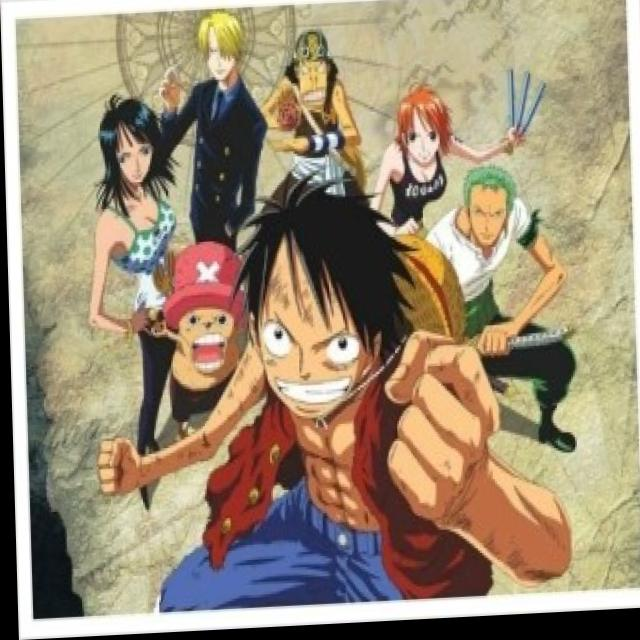Chyopa: (141, 224, 258, 445)
Luffy: (240, 180, 419, 436)
Nami: (387, 84, 461, 182)
NicoRobin: (86, 82, 178, 221)
Sangdi: (187, 5, 258, 93)
Usopp: (279, 25, 346, 127)
Zoro: (452, 165, 527, 259)
